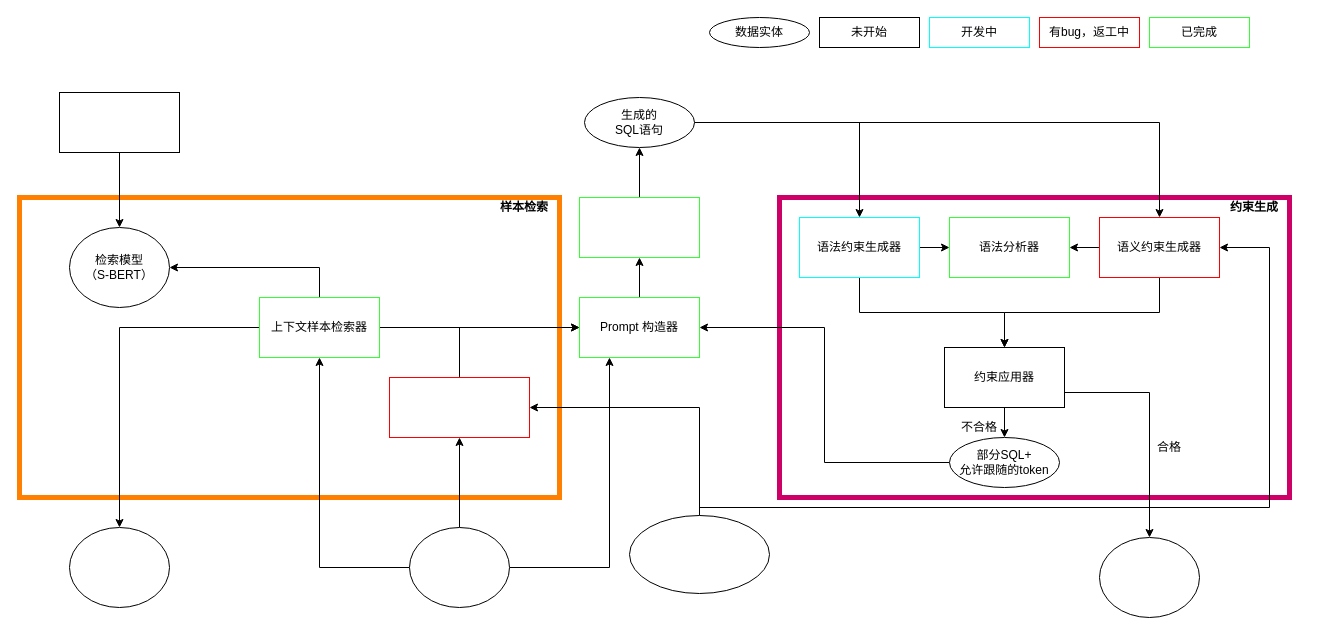
Some shapes in this 1317 by 635 pixel diagram are drawn without their labels. Here are the shapes that lost their labels. From the top down, the box of each, then its label:
(58, 92, 180, 152): 检索模型微调模块
(578, 196, 700, 258): GPT3 API 交互器
(388, 376, 530, 438): Schema 搜索与清理器
(68, 526, 170, 608): 上下文样本 （train 集）
(408, 526, 510, 608): 输入NL （dev 集）
(628, 514, 770, 594): 数据库架构
(1098, 536, 1200, 618): 输出SQL
